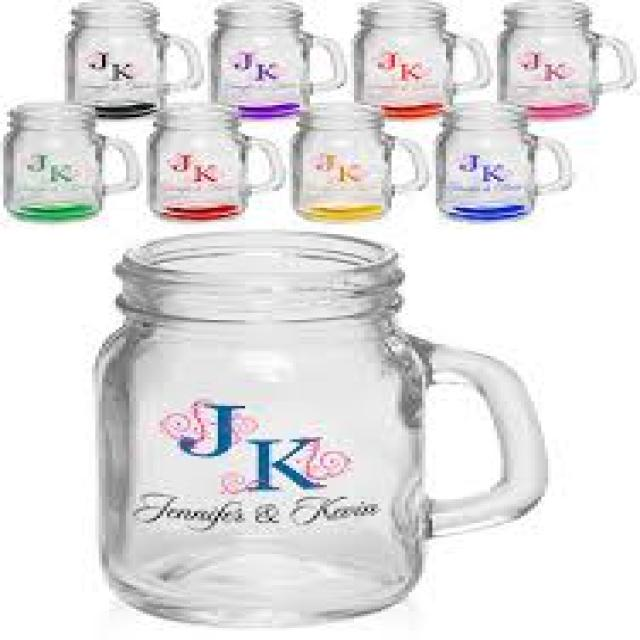glass: (89, 232, 545, 621), (290, 100, 426, 215), (205, 0, 341, 115), (436, 101, 569, 218), (497, 0, 630, 115), (143, 103, 279, 215), (4, 103, 137, 217), (62, 5, 198, 115), (354, 5, 487, 115)
